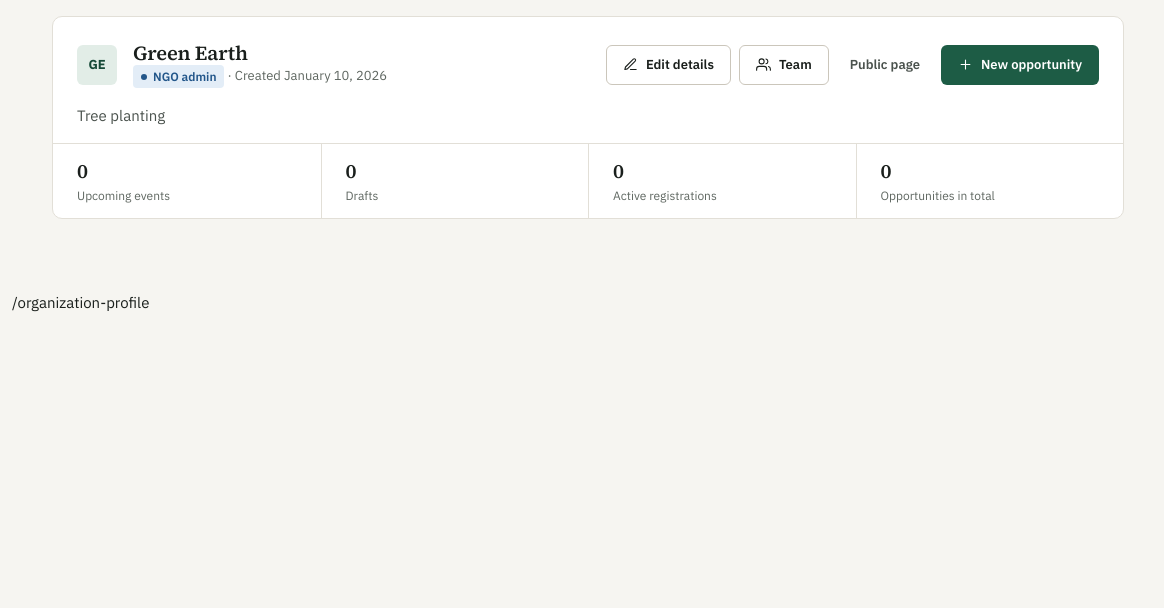
Test: My organizations — editing › checks the details before saving
This screenshot has width=1164, height=608.
Click the button "Edit details".
click(668, 65)  # box [606,45,731,85]
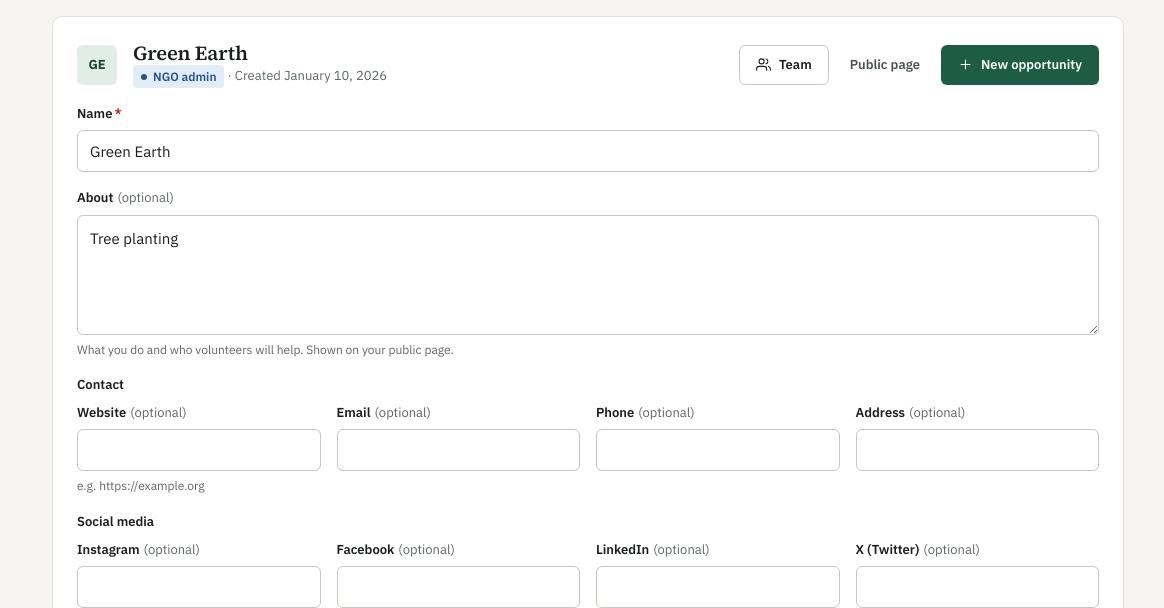
Type "greenearth" into the field labelled "Website(optional)".
click(199, 450); type("greenearth")  # box [77,429,320,471]
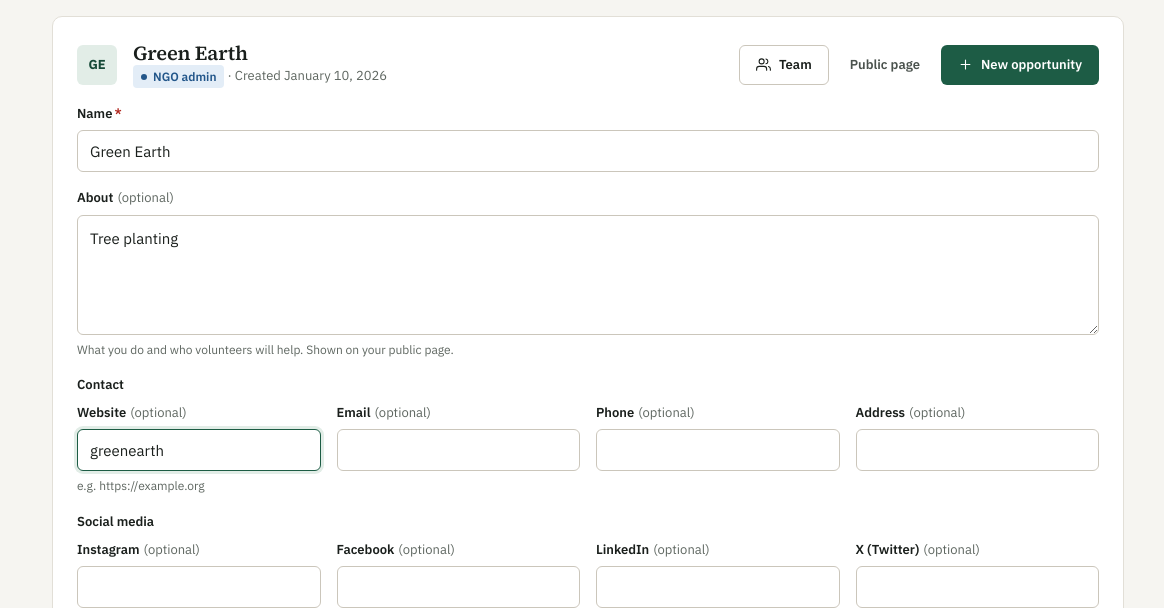
Type "not-an-email" into the field labelled "Email(optional)".
click(458, 450); type("not-an-email")  # box [336,429,580,471]
(page scrolled)
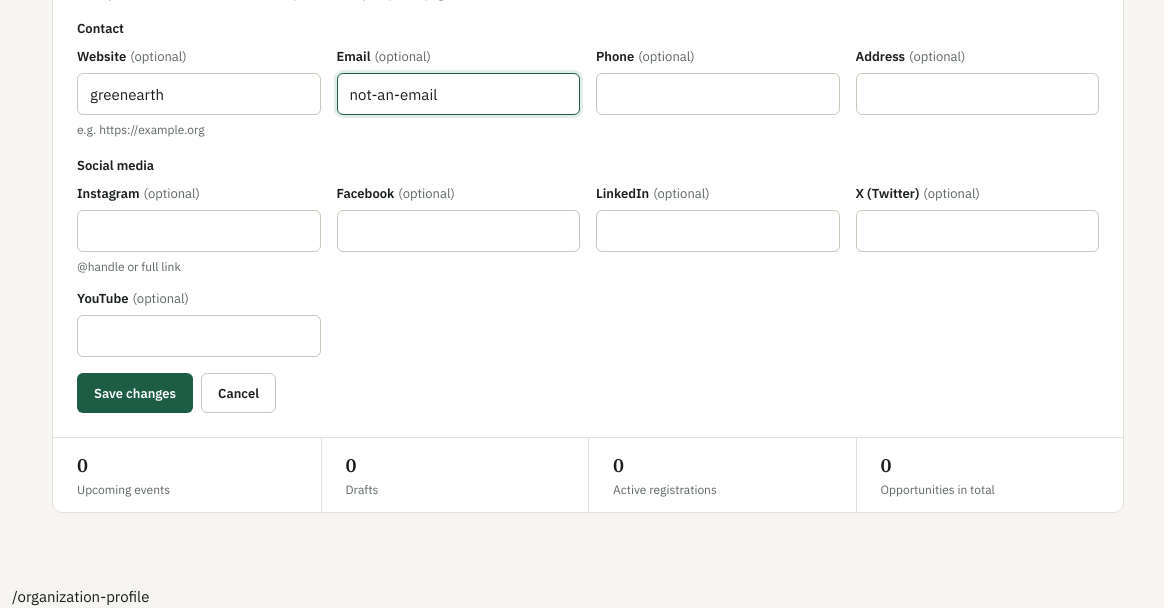
Click the button "Save changes".
click(135, 393)  # box [77,373,193,413]
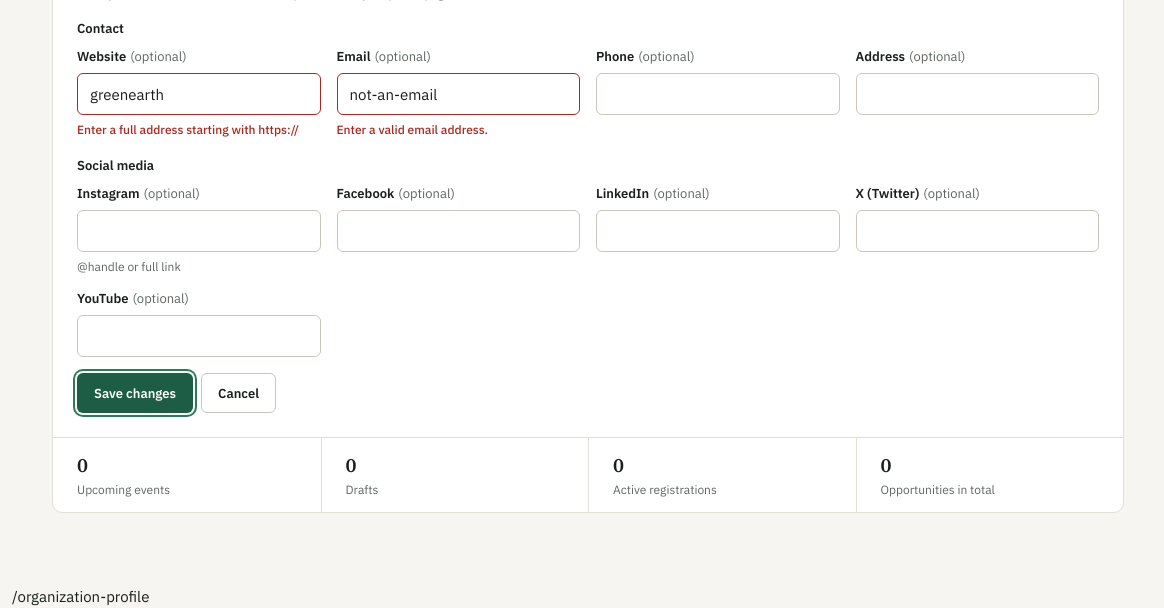
Check: the text "Enter a full address starting with https://" is shown, box [77,121,320,140]
Check: the text "Enter a valid email address." is shown, box [336,122,488,137]
